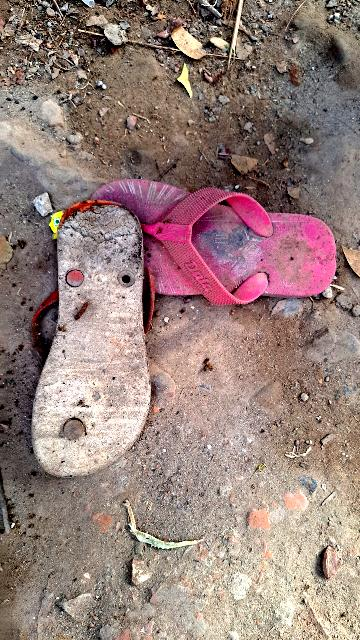sandal: (24, 188, 154, 483), (89, 161, 329, 304)
